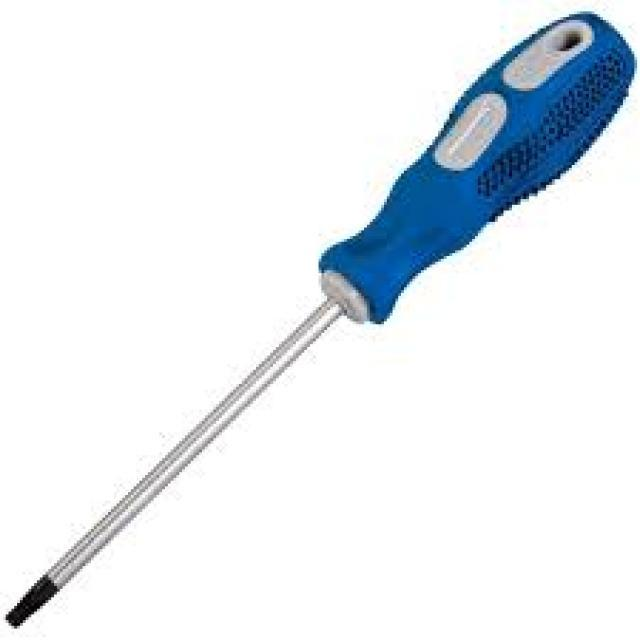screwdriver: (5, 13, 638, 630)
